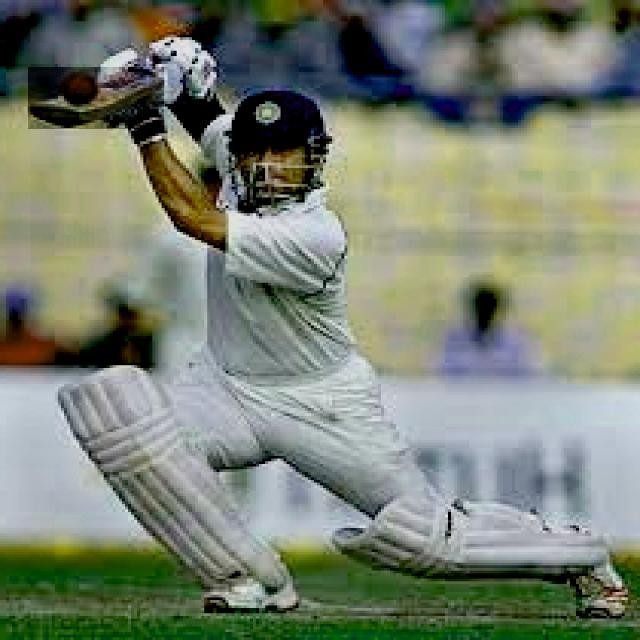bat: (27, 68, 159, 128)
toe: (32, 105, 84, 125)
